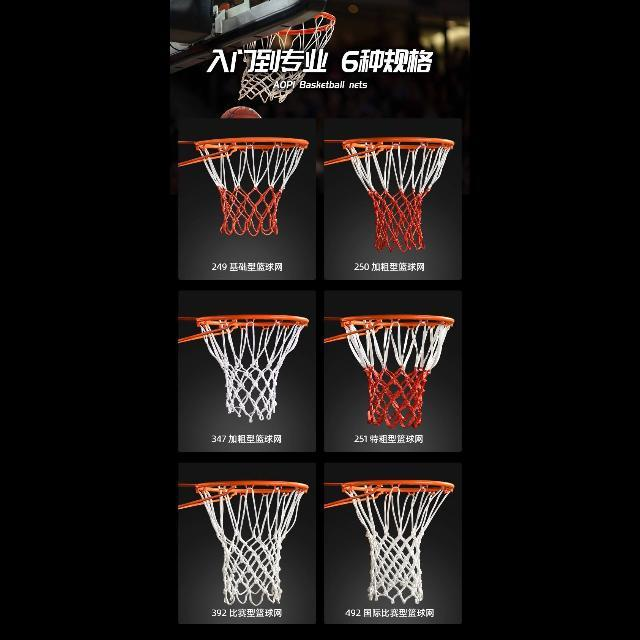rim: (342, 480, 454, 606), (197, 481, 307, 605), (340, 314, 458, 428), (344, 136, 456, 252), (195, 315, 308, 417), (195, 136, 307, 234)
